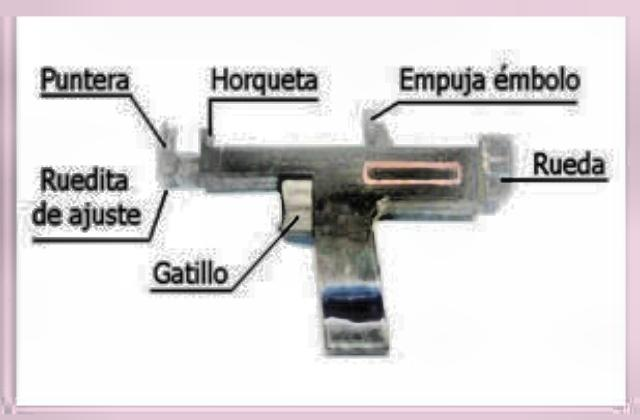pistol: (152, 122, 526, 358)
